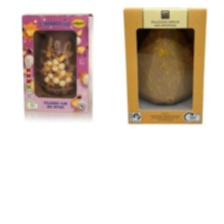book: (118, 3, 213, 129), (16, 5, 99, 120)
